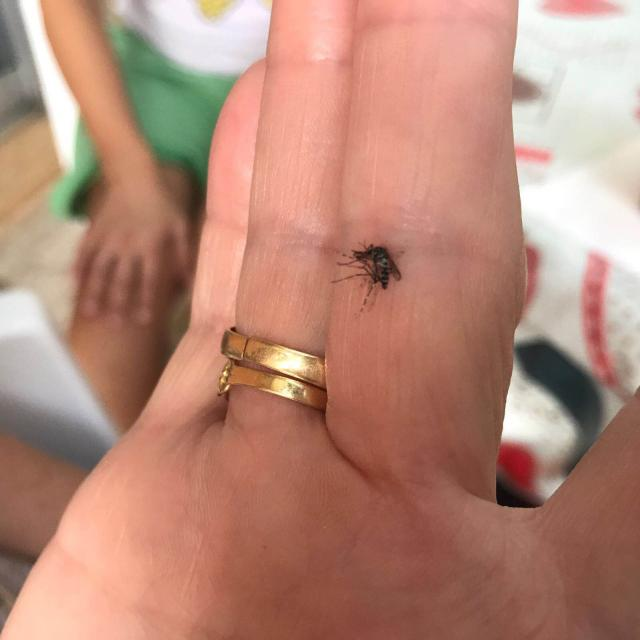albopictus: (325, 236, 406, 316)
